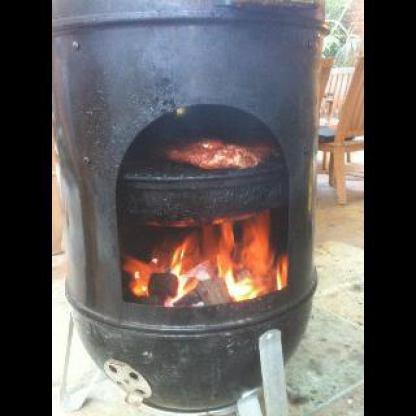fire: (117, 211, 293, 304)
